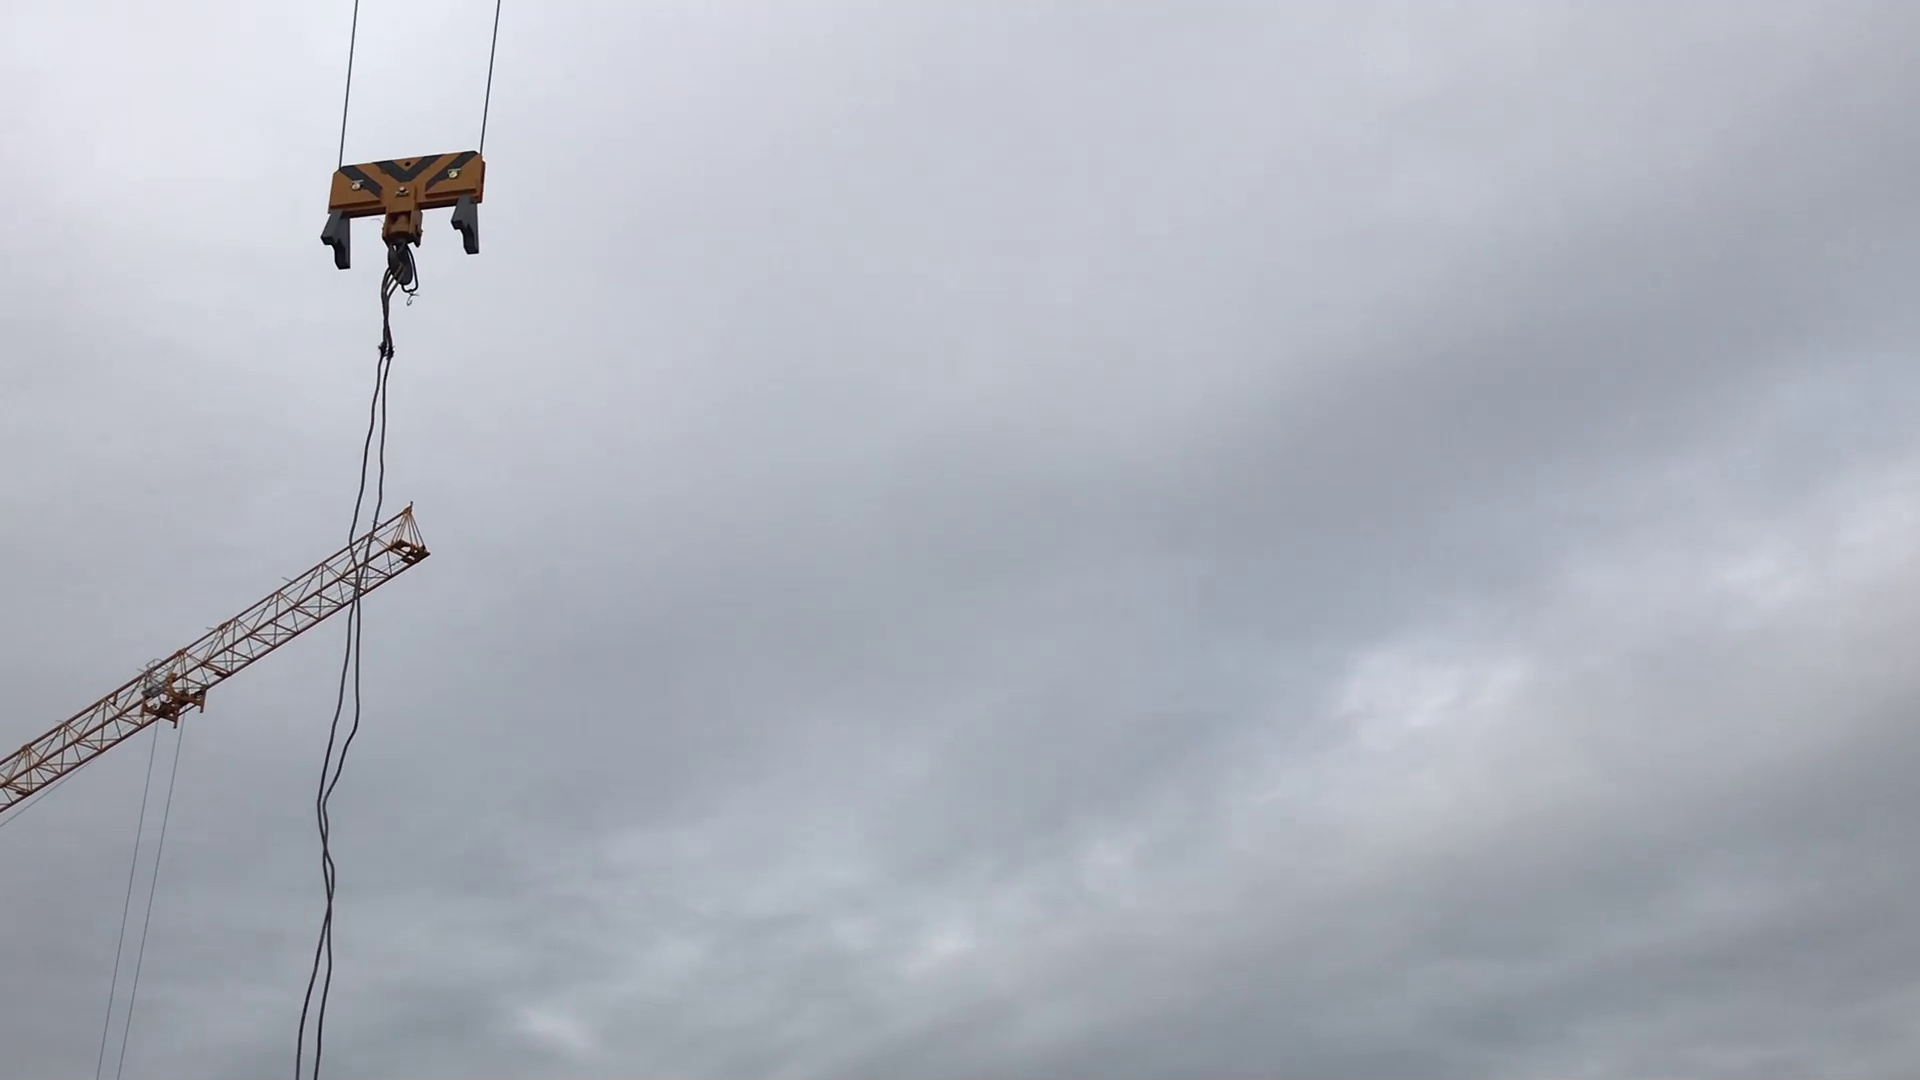hook: (320, 146, 496, 297)
